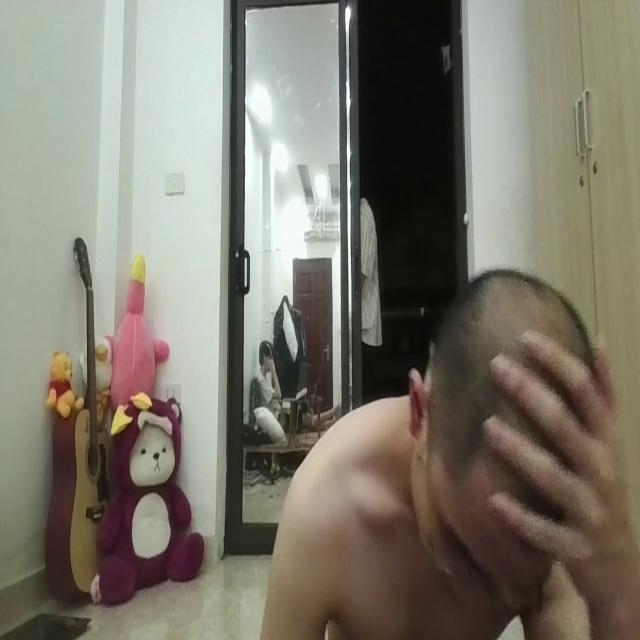extra_person: (246, 303, 308, 455), (351, 144, 386, 372)
student: (255, 263, 640, 640)
